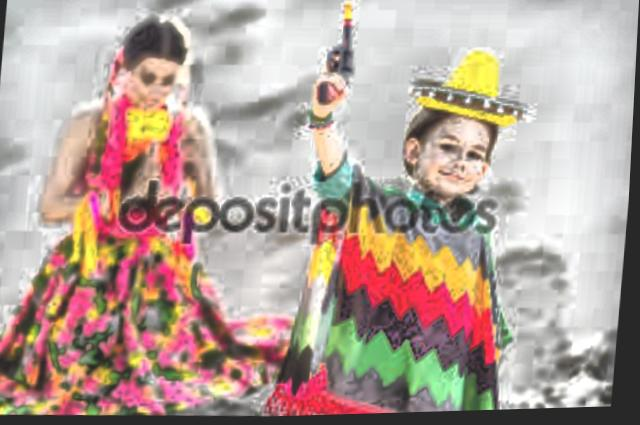pistol: (308, 2, 369, 113)
